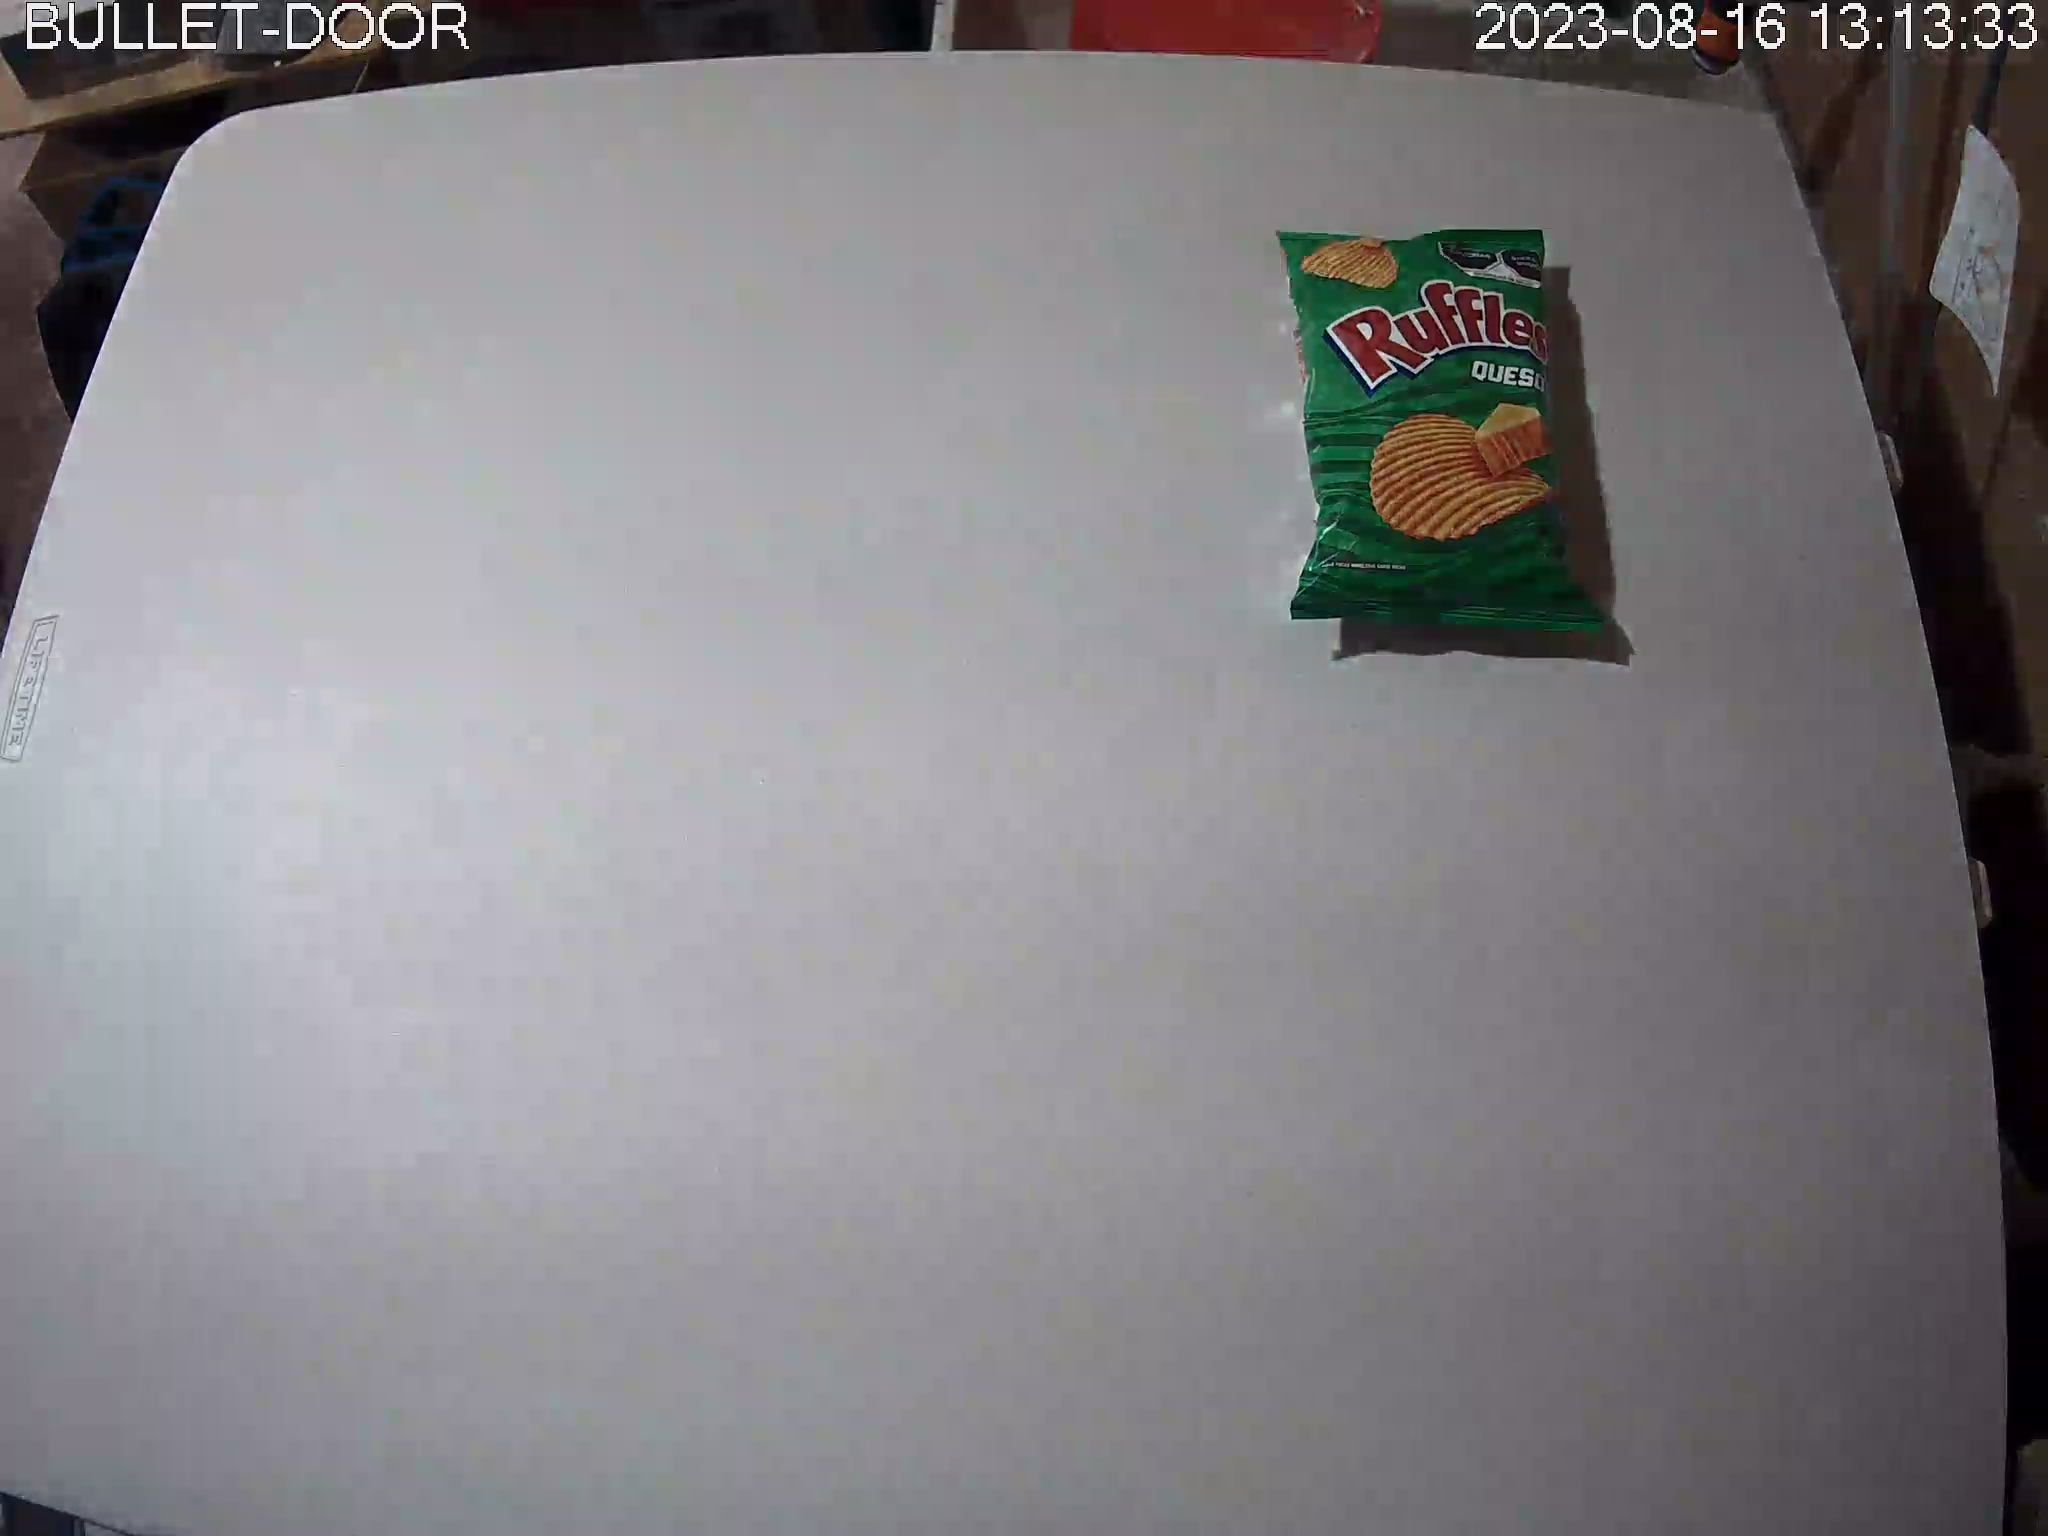RufflesQ_48_F: (1277, 229, 1609, 649)
